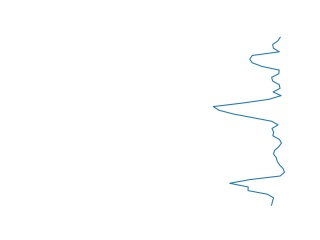underwaterNaturalLevee: (211, 35, 289, 209)
